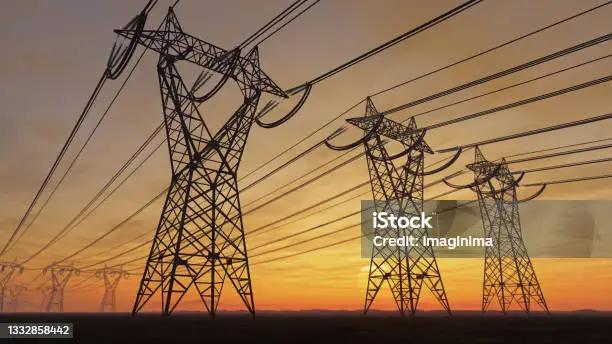tower: (115, 5, 287, 321), (347, 90, 454, 319), (467, 140, 554, 316)
